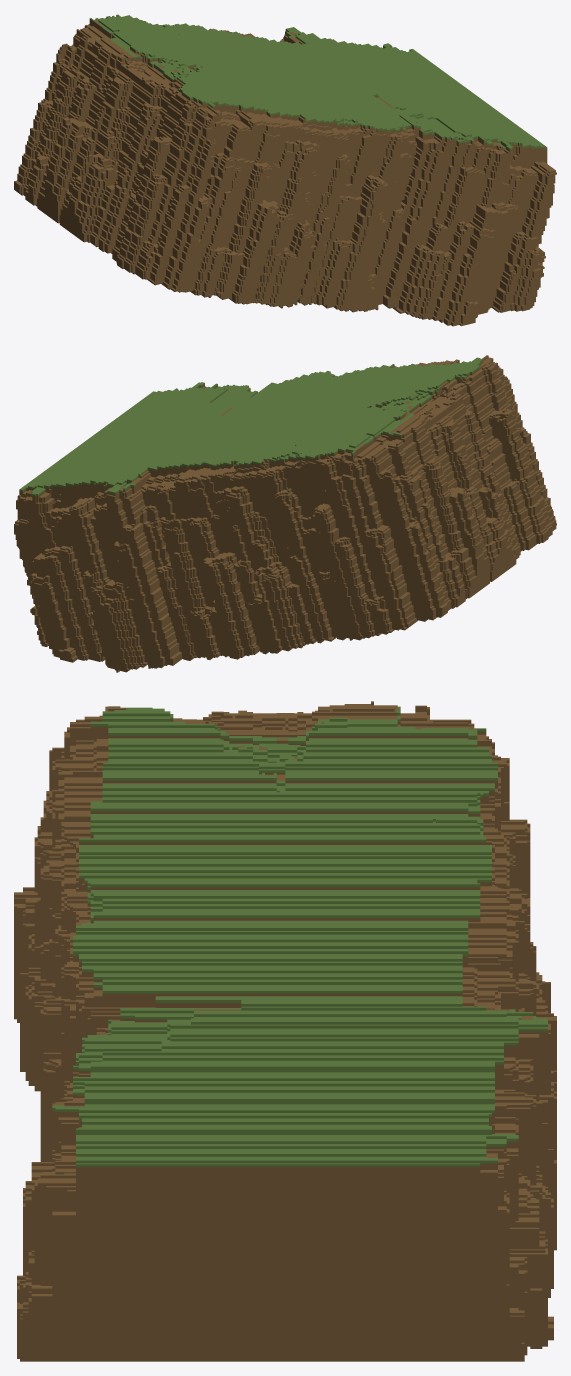
The model's file is forest1.1-90.obj.
The picture shows the model from 3 angles, top to bottom: view 1: azimuth 30°, elevation 25°; view 2: azimuth 150°, elevation 25°; view 3: azimuth 270°, elevation 25°; orthographic projection. The views are drawn at different scales.
Size of the model in its own units: 25.6 by 15.5 by 18.4.
Materials: 1 (1 with a texture image).
